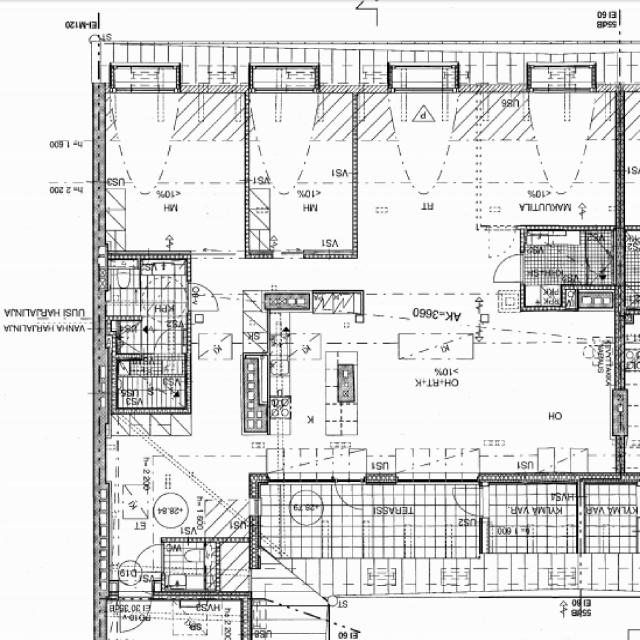door: (120, 591, 151, 632), (334, 472, 363, 514), (452, 488, 488, 517), (154, 326, 182, 359), (134, 544, 165, 572), (494, 254, 525, 281), (188, 283, 218, 310)
